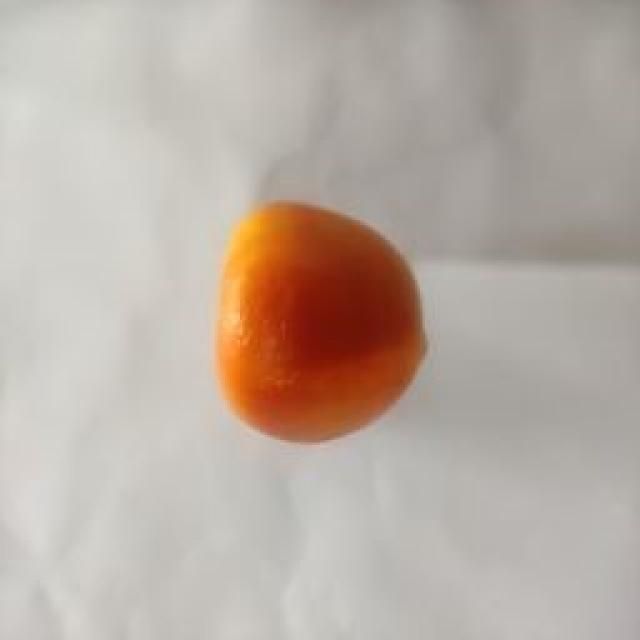Ripe: (212, 195, 436, 450)
